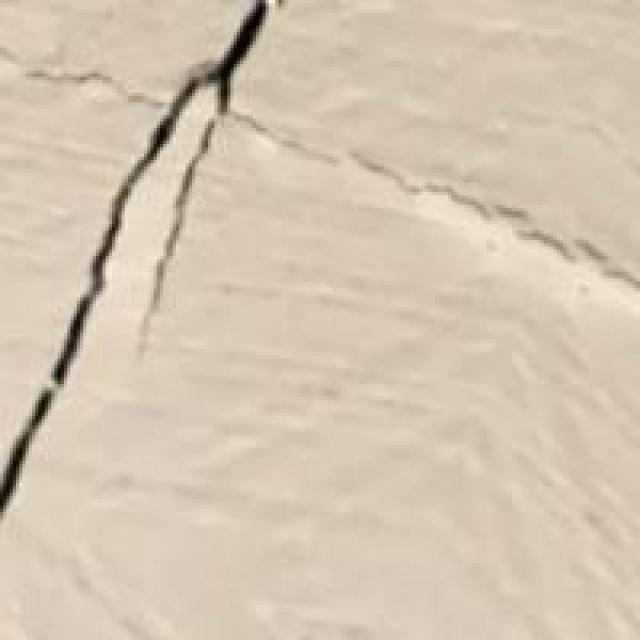Crack: (1, 3, 302, 522)
